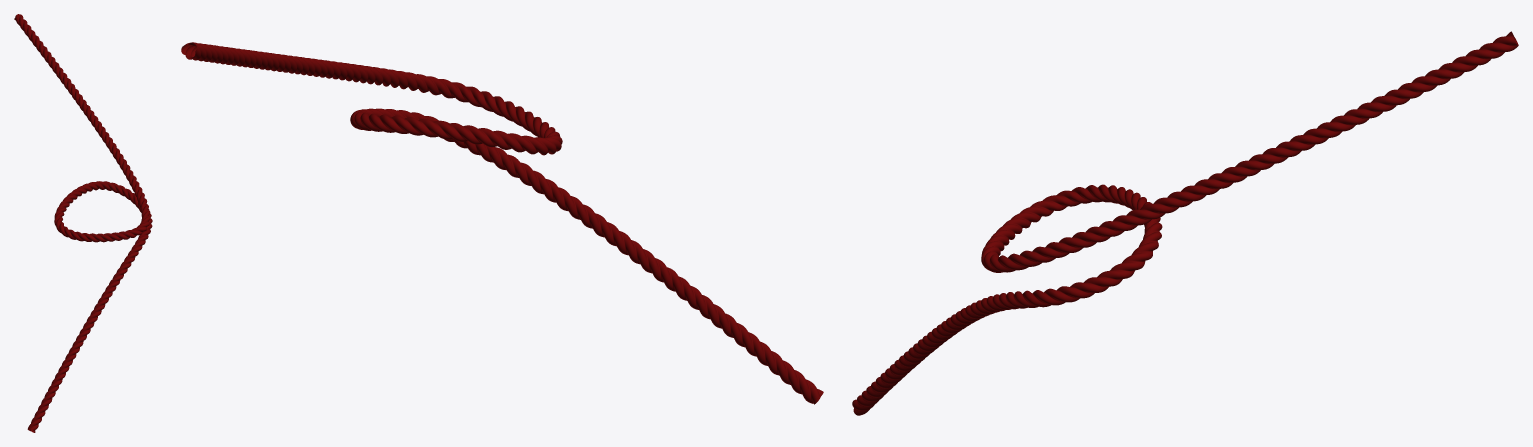
Rendered from cordeRoule.glb.
3 renders of one model, left to right at view 1: azimuth 30°, elevation 25°; view 2: azimuth 150°, elevation 25°; view 3: azimuth 270°, elevation 25°, orthographic. The views are drawn at different scales.
Visible parts, largest first — view 1: Corde2; view 2: Corde2; view 3: Corde2.
Part boxes in pixels (x1=…): Corde2: x1=14, y1=14, x2=152, y2=432; Corde2: x1=181, y1=42, x2=823, y2=404; Corde2: x1=852, y1=31, x2=1518, y2=415.
Size of the model in its own units: 79.46 by 115 by 132.
1 material, 1 textured.
